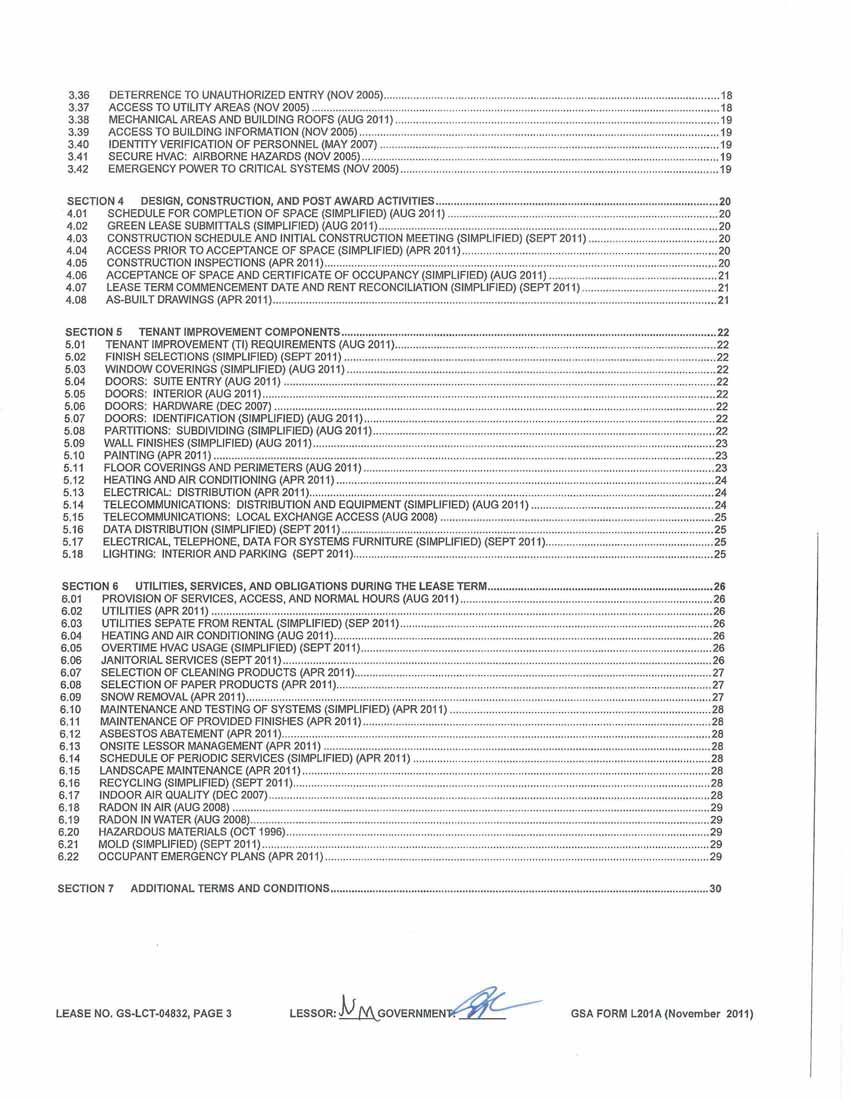handwritten: (448, 970, 549, 1027), (334, 984, 379, 1029)
